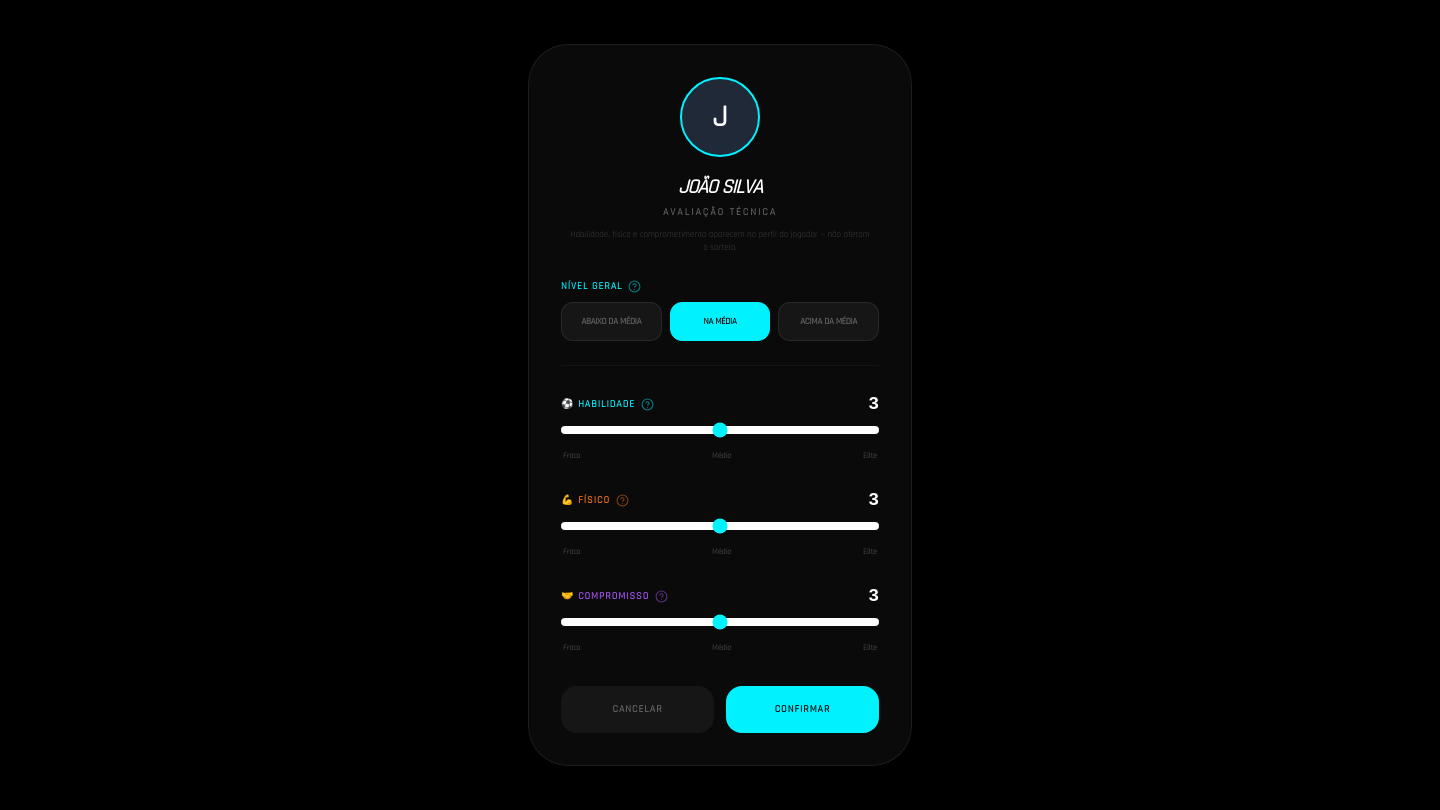
RatePlayerModal › sliders › valor do slider reflete no display numérico
The width and height of the screenshot is (1440, 810).
Set the slider below "⚽ Habilidade" to "5" at (871, 430), box [561,426,879,434]
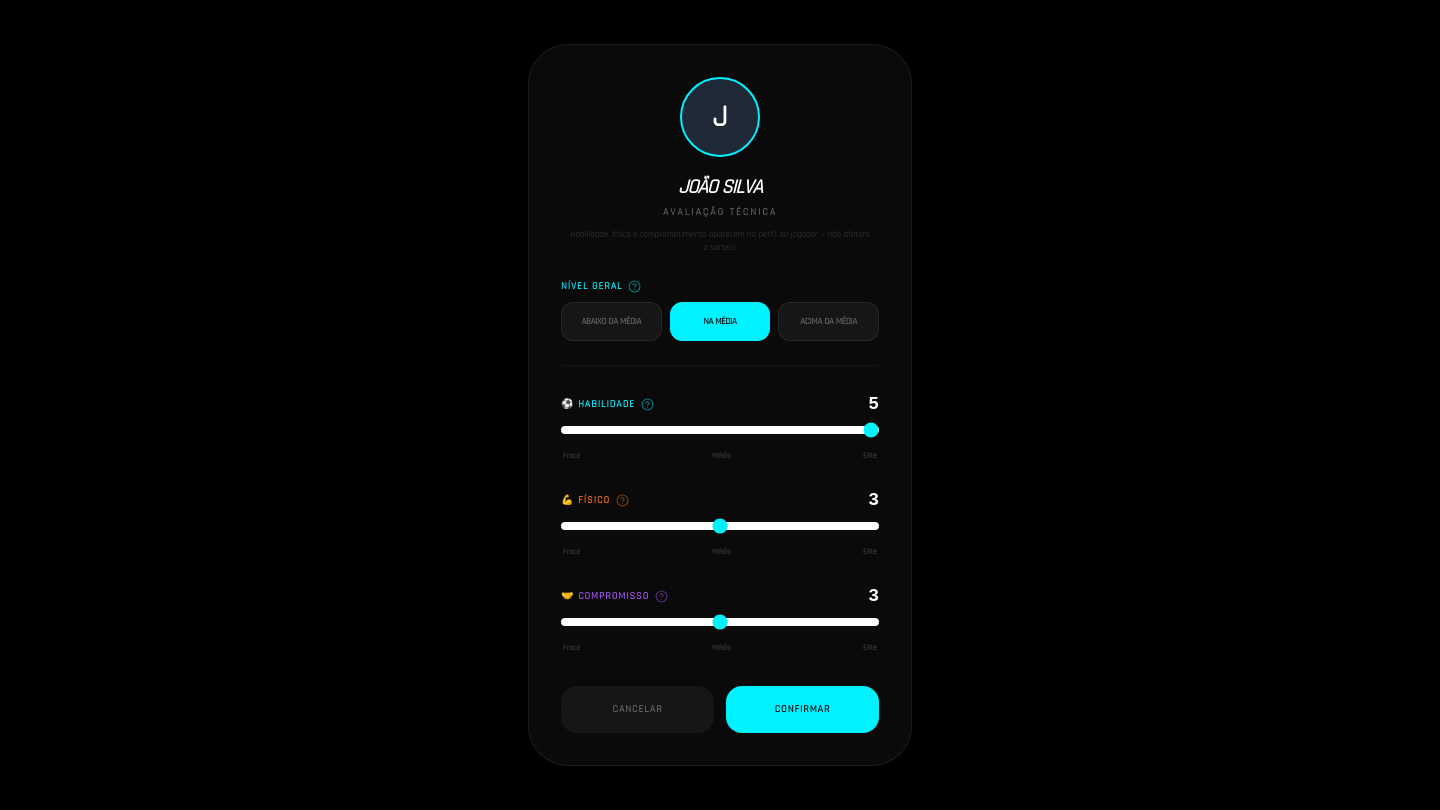
Expected: the text "5" is shown, [868,390,879,418]
